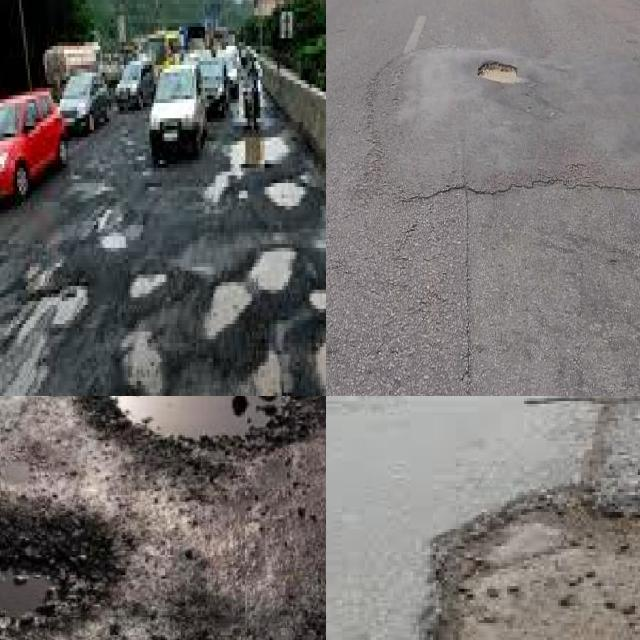Pothole: (419, 489, 640, 640), (0, 499, 121, 631), (205, 248, 297, 339), (109, 396, 287, 443), (256, 354, 283, 396), (305, 343, 326, 396), (477, 60, 521, 85)
